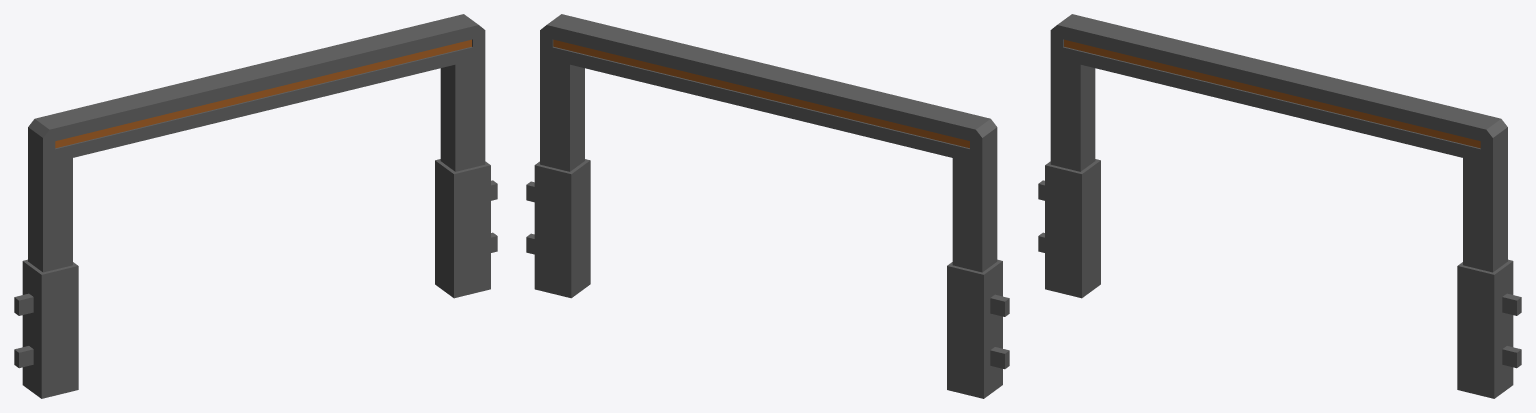
Rendered from railing_single.fbx.
The picture shows the model from 3 angles, left to right: view 1: azimuth 30°, elevation 25°; view 2: azimuth 150°, elevation 25°; view 3: azimuth 330°, elevation 25°; orthographic projection.
Parts seen in each view (by area): view 1: polySurface240; view 2: polySurface240; view 3: polySurface240.
Part boxes in pixels (x1,y1,x2,y2): polySurface240: (14,14,497,398); polySurface240: (526,14,1009,398); polySurface240: (1038,14,1521,398).
Bounding box in the file's own units: 501 × 266 × 34.56.
